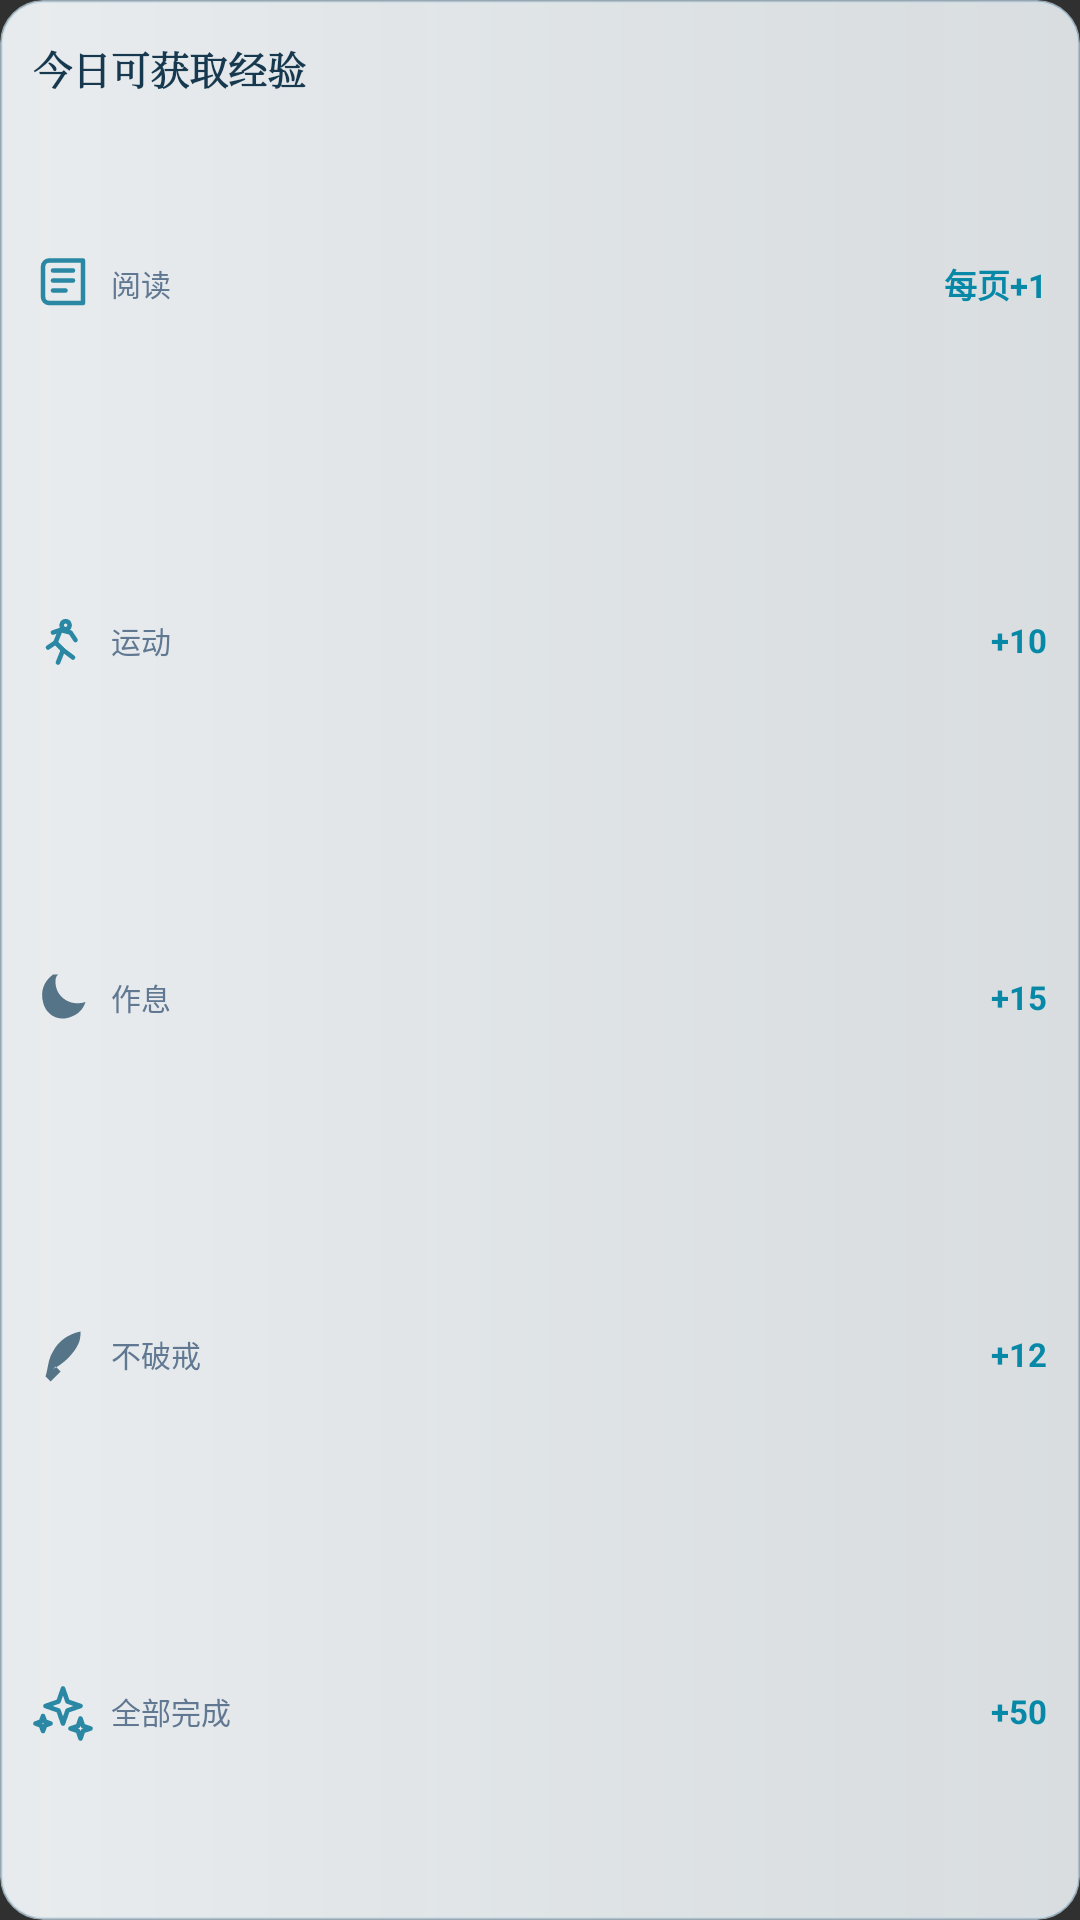

Icon bounding boxes for this 1080*1920 phone screenshot, format (x1, y1, x2, y2):
exp sleep: (42, 974, 86, 1019)
